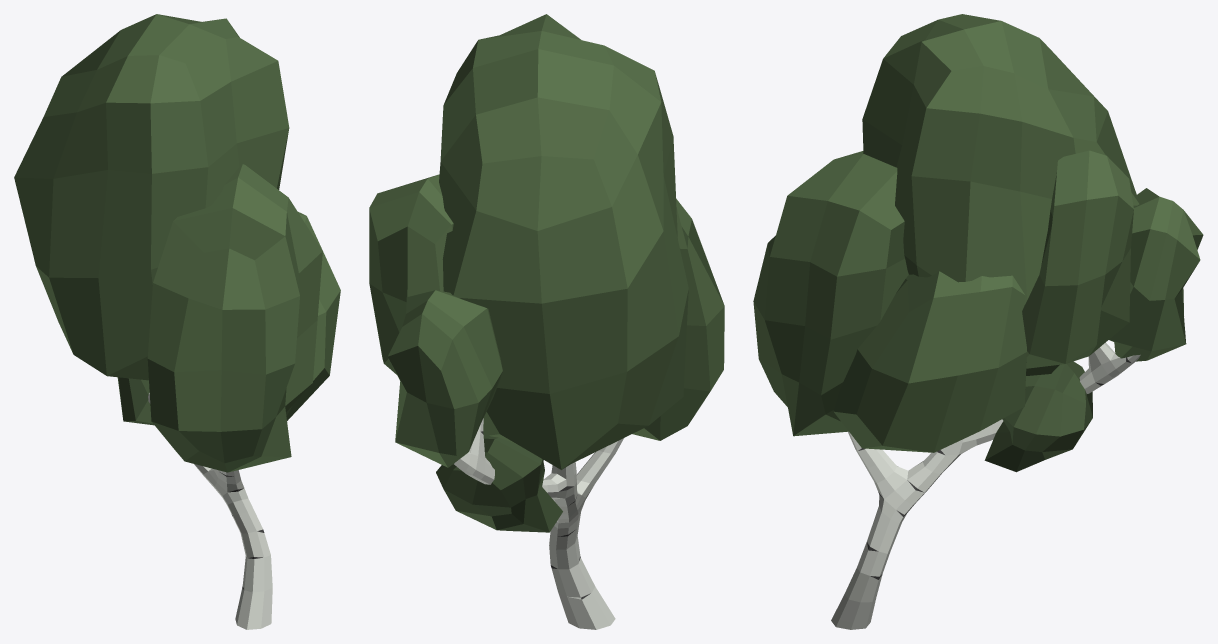
Rendered from birchtree_1.glb.
The picture shows the model from 3 angles, left to right: view 1: azimuth 30°, elevation 25°; view 2: azimuth 150°, elevation 25°; view 3: azimuth 270°, elevation 25°; orthographic projection. The views are drawn at different scales.
Visible parts, largest first — view 1: BirchTree_1; view 2: BirchTree_1; view 3: BirchTree_1.
Boxes of the visible parts, x1,y1,x2,y2 form: BirchTree_1: (14, 14, 340, 629); BirchTree_1: (369, 14, 724, 629); BirchTree_1: (753, 14, 1203, 629).
Size of the model in its own units: 4.08 by 8.58 by 5.95.
